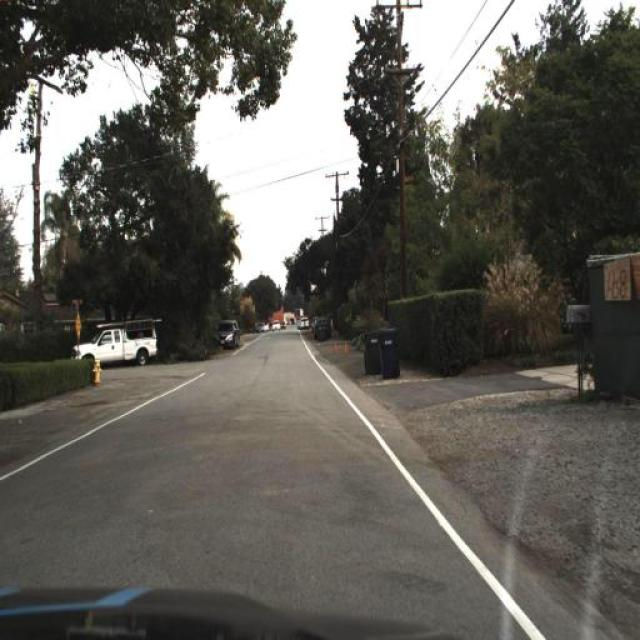car: (73, 327, 161, 372), (214, 316, 238, 349)
